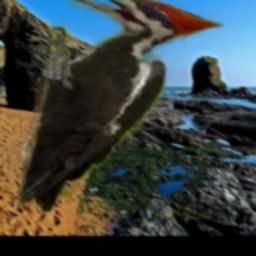Woodpecker: (19, 0, 225, 212)
